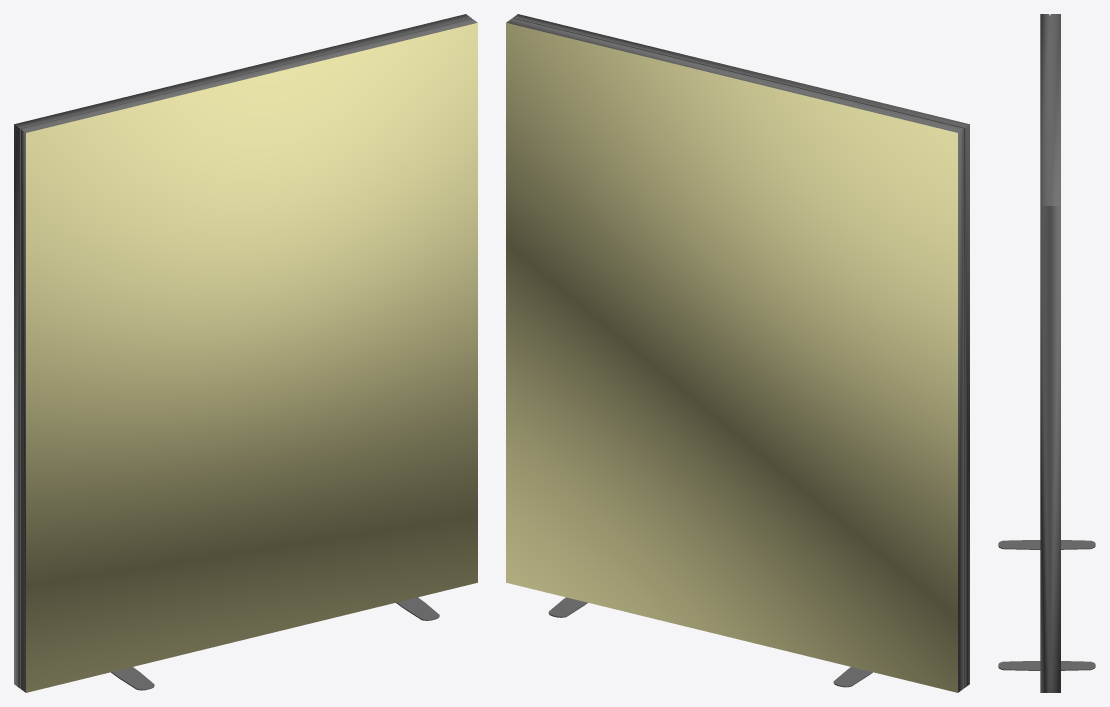
Rendered from 6.5ft  Lightbox.glb.
3 renders of one model, left to right at view 1: azimuth 30°, elevation 25°; view 2: azimuth 150°, elevation 25°; view 3: azimuth 270°, elevation 25°, orthographic. The views are drawn at different scales.
Parts seen in each view (by area): view 1: pasted__polySurface5.003, toggle_feet_center.024; view 2: pasted__polySurface5.003, toggle_feet_center.024; view 3: pasted__polySurface5.003, toggle_feet_center.024.
Part boxes in pixels (x1,y1,x2,y2): pasted__polySurface5.003: (14,14,477,692); toggle_feet_center.024: (111,597,439,690); pasted__polySurface5.003: (506,14,969,692); toggle_feet_center.024: (548,599,872,687); pasted__polySurface5.003: (1040,14,1060,692); toggle_feet_center.024: (998,540,1095,670).
Size of the model in its own units: 2 by 2.38 by 0.4285.
